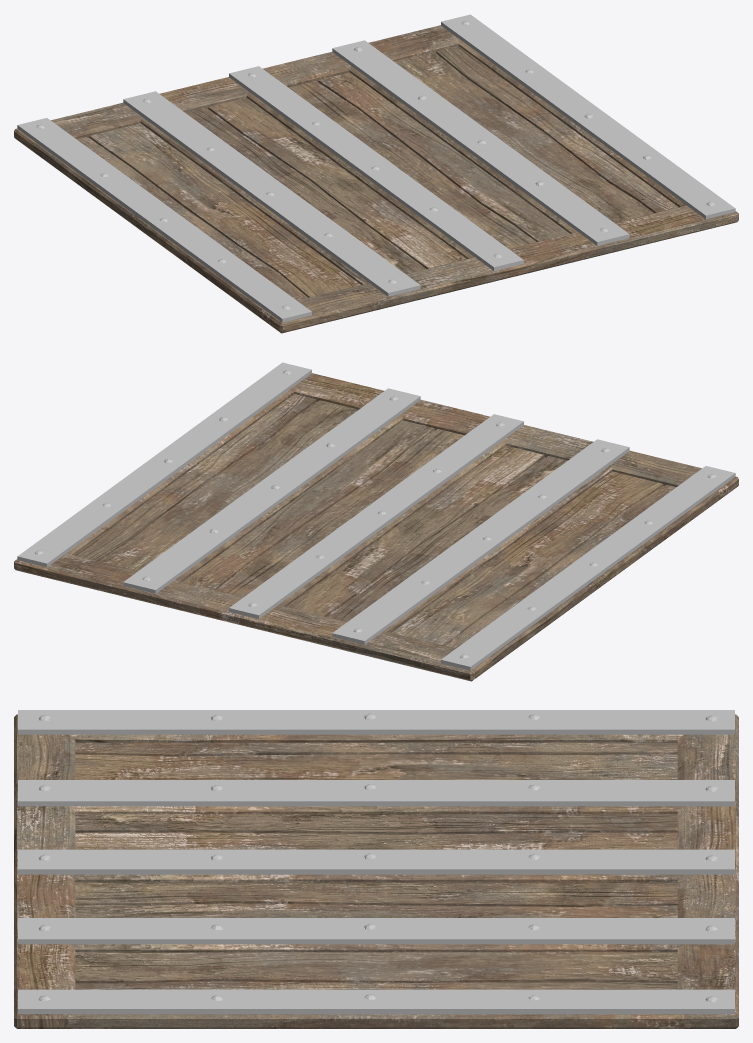
Rendered from SM_Crate_Lid_A_02.fbx.
3 views of the same model, one above another, from view 1: azimuth 30°, elevation 25°; view 2: azimuth 150°, elevation 25°; view 3: azimuth 270°, elevation 25° (orthographic). The views are drawn at different scales.
Visible parts, largest first — view 1: SM_Crate_Lid_A_02_LOD0; view 2: SM_Crate_Lid_A_02_LOD0; view 3: SM_Crate_Lid_A_02_LOD0.
Part boxes in pixels (left/top/right/bottom): SM_Crate_Lid_A_02_LOD0: left=14, top=14, right=738, bottom=333; SM_Crate_Lid_A_02_LOD0: left=14, top=362, right=738, bottom=681; SM_Crate_Lid_A_02_LOD0: left=14, top=710, right=738, bottom=1028.
Bounding box in the file's own units: 88.45 × 89.39 × 3.01.
